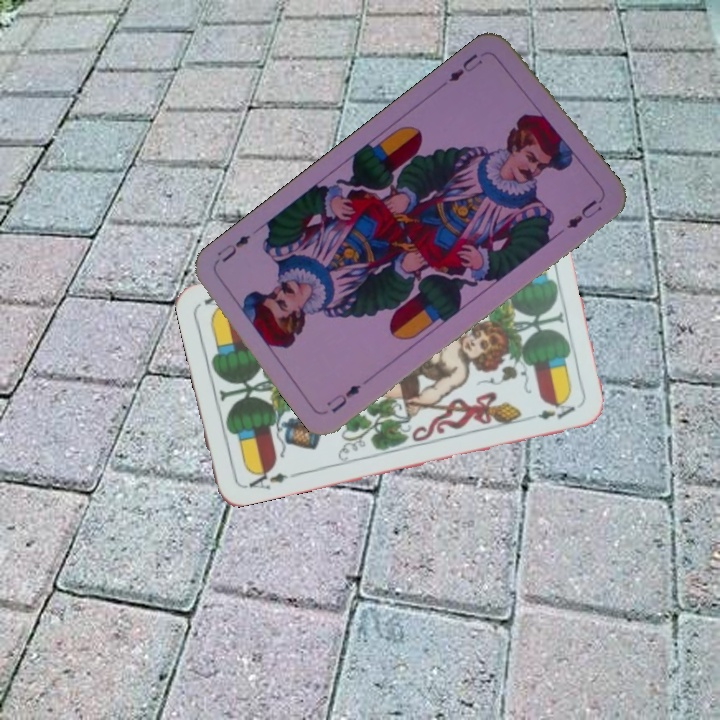EA: (240, 463, 290, 492)
EU: (322, 380, 364, 416), (445, 49, 486, 85)
